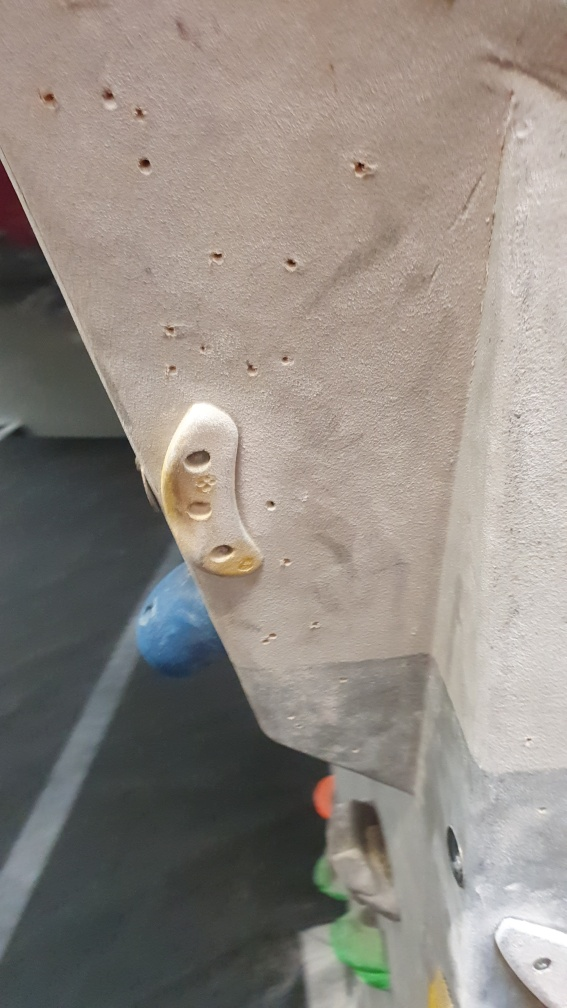Crimp: (152, 401, 273, 579), (496, 911, 567, 999)
Hand Start: (437, 821, 471, 889)
Jug: (324, 791, 412, 924)
